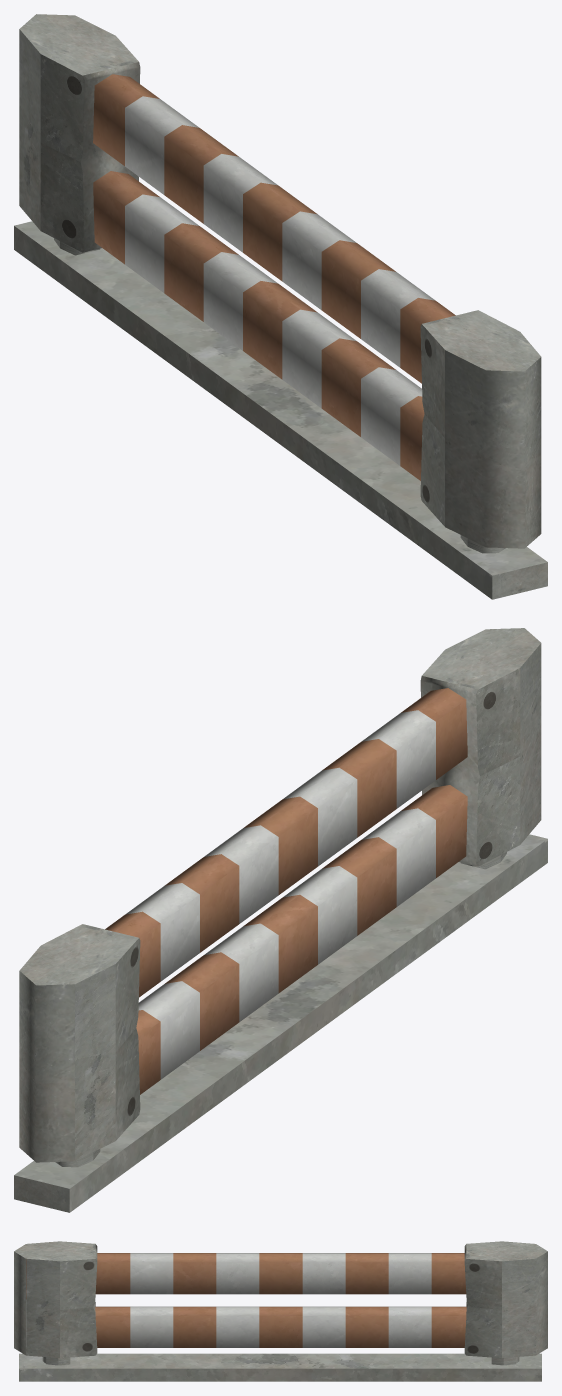
The model's file is ConstructionBarrier.fbx.
3 renders of one model, top to bottom at view 1: azimuth 30°, elevation 25°; view 2: azimuth 150°, elevation 25°; view 3: azimuth 270°, elevation 25°, orthographic. The views are drawn at different scales.
Parts seen in each view (by area): view 1: ConstructionBarrierBase, ConstructionBarrierCenter; view 2: ConstructionBarrierBase, ConstructionBarrierCenter; view 3: ConstructionBarrierBase, ConstructionBarrierCenter.
Part boxes in pixels (x1=…): ConstructionBarrierBase: x1=14, y1=14, x2=547, y2=599; ConstructionBarrierCenter: x1=93, y1=74, x2=455, y2=480; ConstructionBarrierBase: x1=14, y1=628, x2=547, y2=1212; ConstructionBarrierCenter: x1=105, y1=688, x2=467, y2=1094; ConstructionBarrierBase: x1=14, y1=1241, x2=547, y2=1381; ConstructionBarrierCenter: x1=95, y1=1253, x2=466, y2=1347.
Bounding box in the file's own units: 57.11 × 163 × 644.
